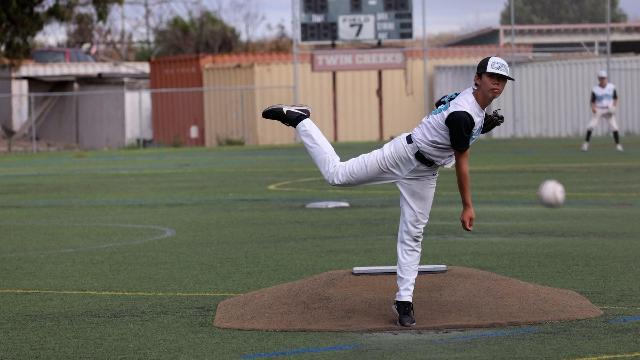sports ball: (537, 179, 567, 208)
